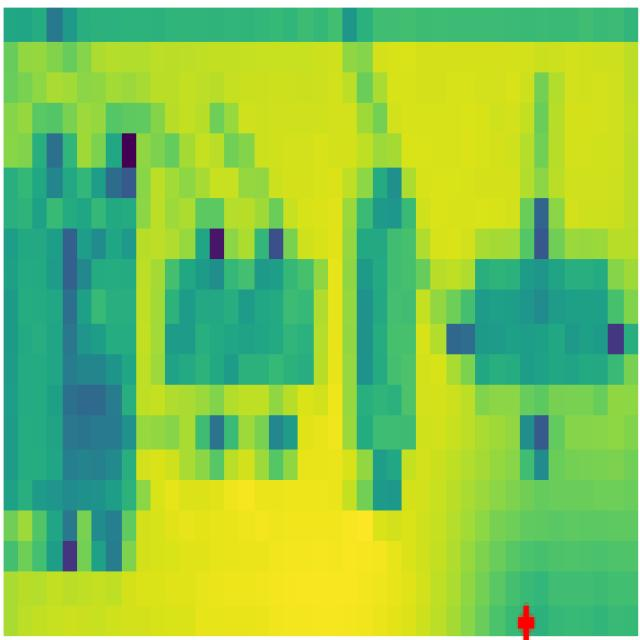Concrete: (5, 169, 143, 512)
Glass: (476, 260, 608, 386)
Metal: (164, 261, 315, 382)
Wood: (346, 194, 417, 448)
